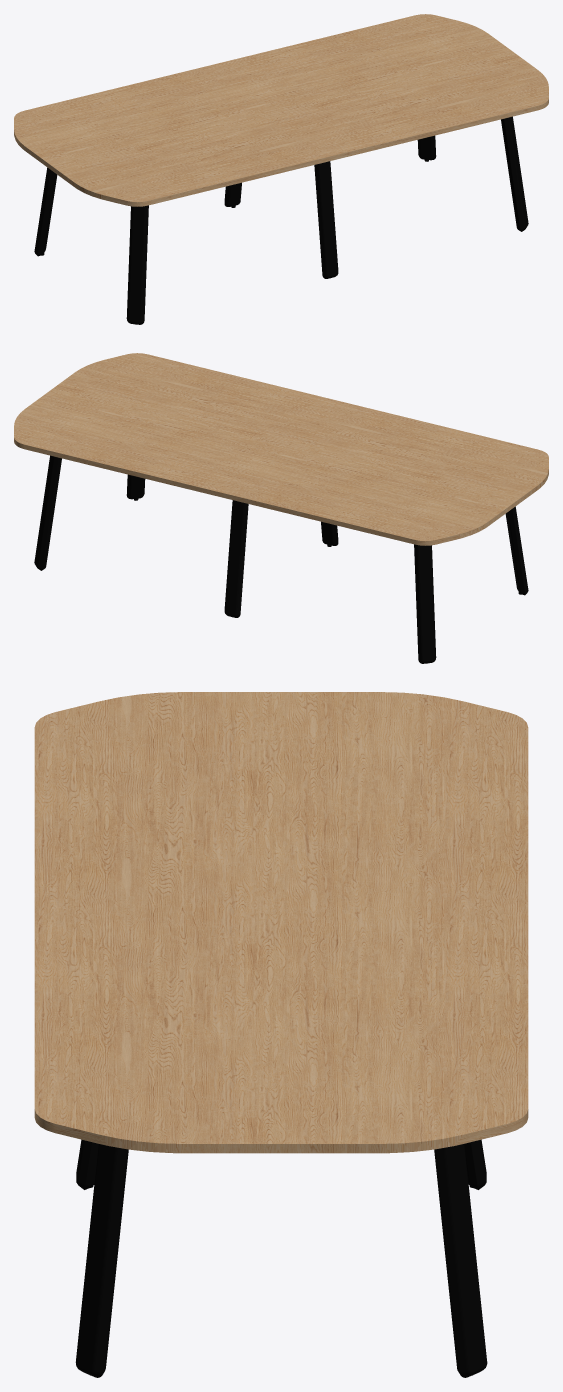
File: Kissen_Meet.gltf
The picture shows the model from 3 angles, top to bottom: view 1: azimuth 30°, elevation 25°; view 2: azimuth 150°, elevation 25°; view 3: azimuth 270°, elevation 25°; orthographic projection. The views are drawn at different scales.
Visible parts, largest first — view 1: Kissen Meet; view 2: Kissen Meet; view 3: Kissen Meet.
Part boxes in pixels (bbox=[...]): Kissen Meet: bbox=[14, 14, 548, 324]; Kissen Meet: bbox=[14, 353, 548, 663]; Kissen Meet: bbox=[34, 692, 528, 1377].
Size of the model in its own units: 2.6 by 0.72 by 1.2.
Materials: 2 (1 with a texture image).
